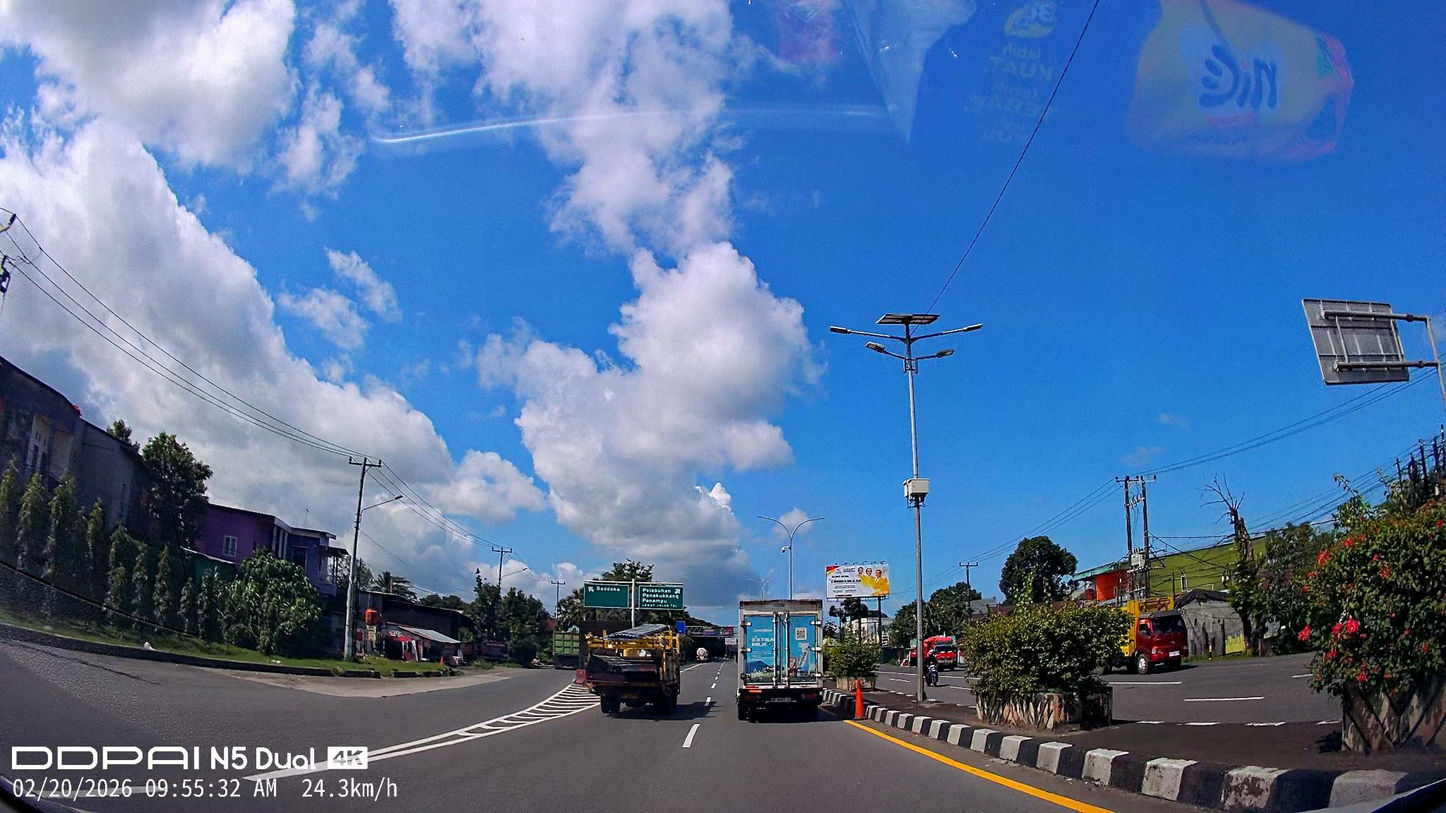rambu_teks: (583, 582, 629, 608), (638, 585, 684, 610)
